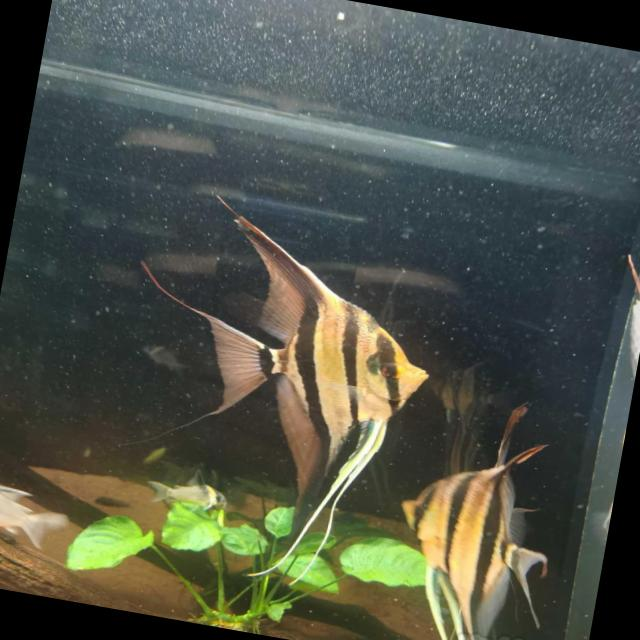AngelFish: (101, 189, 456, 596), (382, 421, 571, 640)
